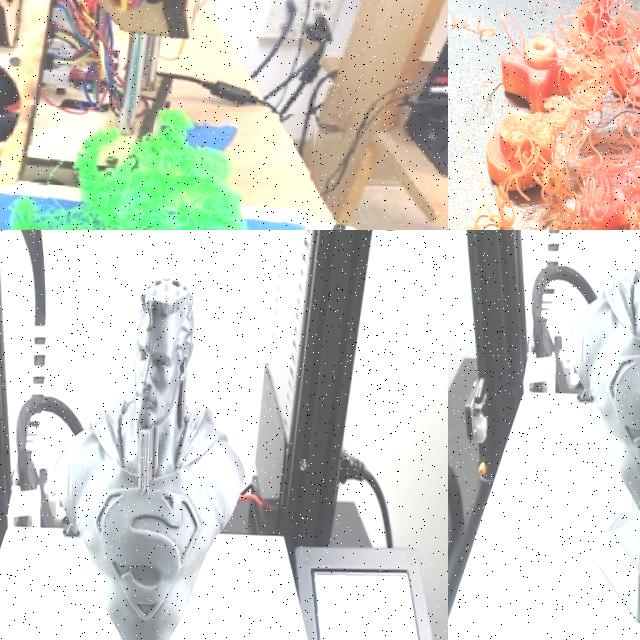spaghetti: (7, 109, 249, 230), (520, 15, 622, 230), (448, 0, 504, 60), (621, 0, 640, 157), (465, 173, 515, 230)
